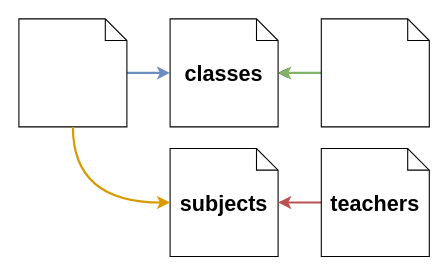
Image size: 448x275. Some labels were removed from this diagram. Each missing label, with the centre of its shape:
lessons: pixel 72 72
students: pixel 374 72
